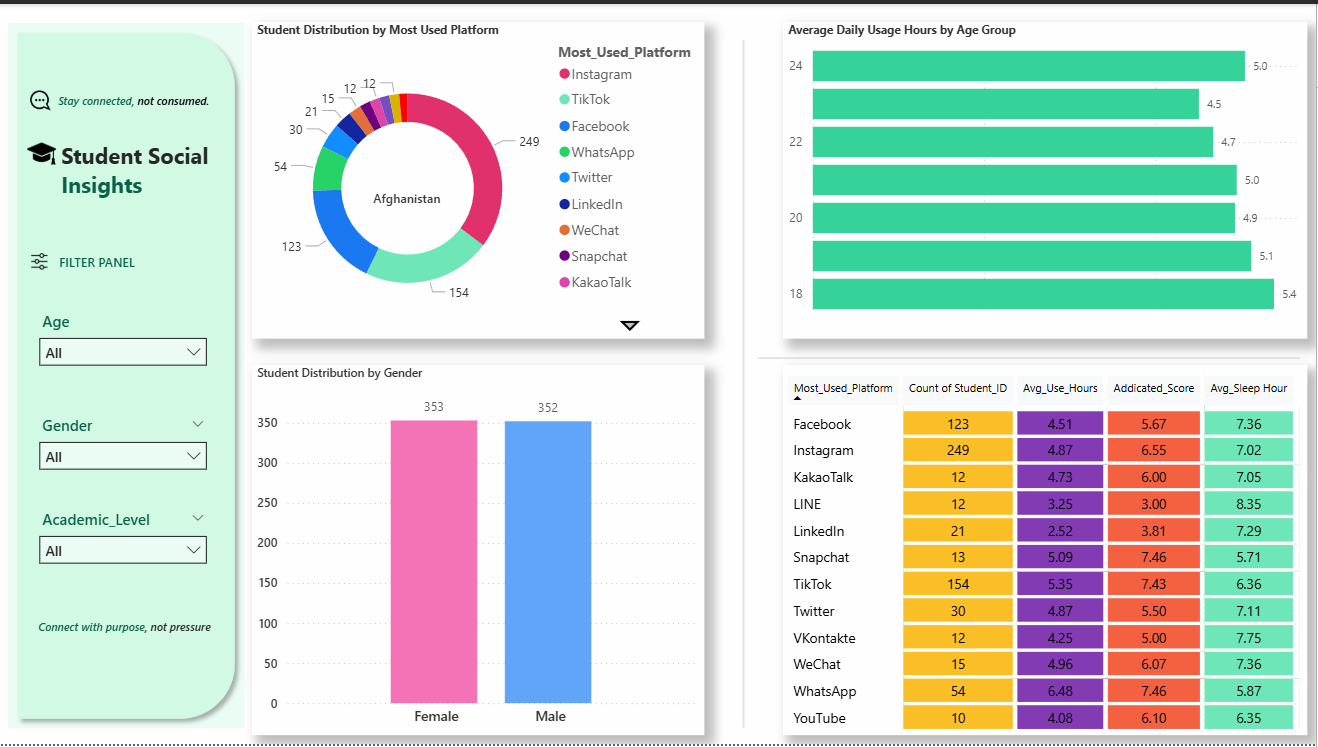

This screenshot's page, from the dashboard's own definition file:
{"tool":"powerbi","page":{"name":"Usage Overview","canvas":[1280,720],"ordinal":1},"visuals":[{"type":"donutChart","title":"Student Distribution by Most Used Platform","fields":{"Category":["social_media_addication ssma.Most_Used_Platform"],"Y":["social_media_addication ssma.Total_Student_count"]},"box":[245.1,17.5,439.6,308.3],"z":0},{"type":"clusteredBarChart","title":"Average Daily Usage Hours by Age Group","fields":{"Category":["social_media_addication ssma.Age"],"Y":["social_media_addication ssma.Total _avg_use_Hours"]},"box":[761.6,17.5,509.7,308.3],"z":1000},{"type":"clusteredColumnChart","title":"Student Distribution by Gender","fields":{"Y":["social_media_addication ssma.Total_Student_count"],"Category":["social_media_addication ssma.Gender"]},"box":[245.1,351.1,439.6,359.9],"z":2000},{"type":"pivotTable","fields":{"Values":["CountNonNull(social_media_addication ssma.Student_ID)","social_media_addication ssma.Total _avg_use_Hours","social_media_addication ssma.Toatal_addicated_score","social_media_addication ssma.Total _avg_sleep hour"],"Rows":["social_media_addication ssma.Most_Used_Platform"]},"box":[761.6,351.1,509.7,359.9],"z":3000},{"type":"shape","box":[7.8,18.5,229.5,685.7],"z":4000},{"type":"image","box":[25.3,236.4,26.3,28.2],"z":5000},{"type":"slicer","fields":{"Values":["social_media_addication ssma.Age"]},"box":[28.2,292.8,182.9,65.2],"z":6000},{"type":"slicer","fields":{"Values":["social_media_addication ssma.Gender"]},"box":[28.2,393.9,182.9,68.1],"z":7000},{"type":"slicer","fields":{"Values":["social_media_addication ssma.Academic_Level"]},"box":[28.2,485.3,182.9,68.1],"z":8000},{"type":"card","fields":{"Values":["Min(social_media_addication ssma.Country)"]},"box":[345.3,159.5,101.2,64.2],"z":9000},{"type":"shape","box":[715.9,35,14.6,669.2],"z":10000},{"type":"shape","box":[737.3,337.5,527.2,13.6],"z":11000},{"type":"textbox","box":[52.5,236.4,104.1,29.2],"z":12000},{"type":"textbox","box":[54.5,127.4,169.2,82.7],"z":13000},{"type":"textbox","box":[51.6,78.8,172.2,42.8],"z":14000},{"type":"image","box":[24.3,77.8,30.2,31.1],"z":15000},{"type":"image","box":[19.5,121.6,41.8,47.7],"z":16000},{"type":"textbox","box":[21.4,590.4,202.3,49.6],"z":17000}]}

Visuals, with their boxes in screenshot pixels (x1, y1, x2, y2), scaled from the page's 1280x720 canvas onto the 1318x747 screenshot:
"Student Distribution by Most Used Platform" donutChart: 252/18/705/338
"Average Daily Usage Hours by Age Group" clusteredBarChart: 784/18/1309/338
"Student Distribution by Gender" clusteredColumnChart: 252/364/705/738
pivotTable - CountNonNull(social_media_addication ssma.Student_ID) x social_media_addication ssma.Total _avg_use_Hours: 784/364/1309/738
shape: 8/19/244/731
image: 26/245/53/275
slicer - social_media_addication ssma.Age: 29/304/217/371
slicer - social_media_addication ssma.Gender: 29/409/217/479
slicer - social_media_addication ssma.Academic_Level: 29/503/217/574
card - Min(social_media_addication ssma.Country): 356/165/460/232
shape: 737/36/752/731
shape: 759/350/1302/364
textbox: 54/245/161/276
textbox: 56/132/230/218
textbox: 53/82/230/126
image: 25/81/56/113
image: 20/126/63/176
textbox: 22/613/230/664
